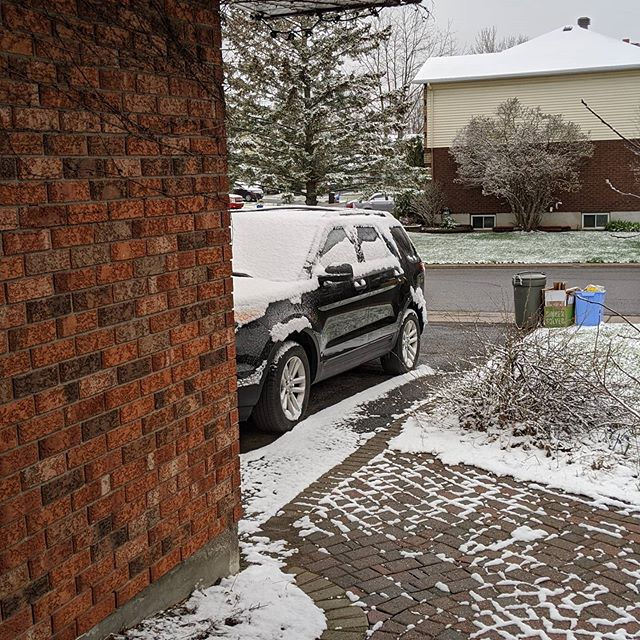building: (1, 1, 220, 640), (418, 31, 640, 222)
car: (229, 194, 429, 431)
trash can: (506, 271, 550, 335)
tree: (228, 1, 415, 207), (456, 97, 588, 240)
